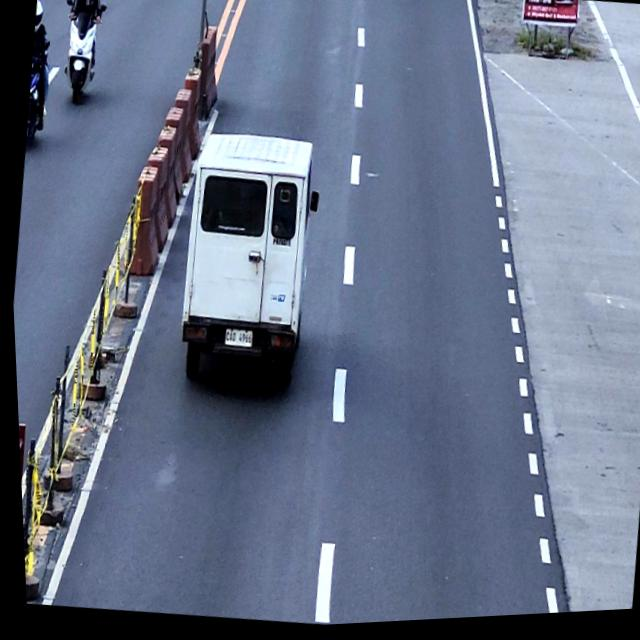Car: (164, 126, 330, 394)
License-Plate: (219, 327, 251, 351)
Motorcycle: (53, 0, 110, 108), (21, 37, 55, 145)
